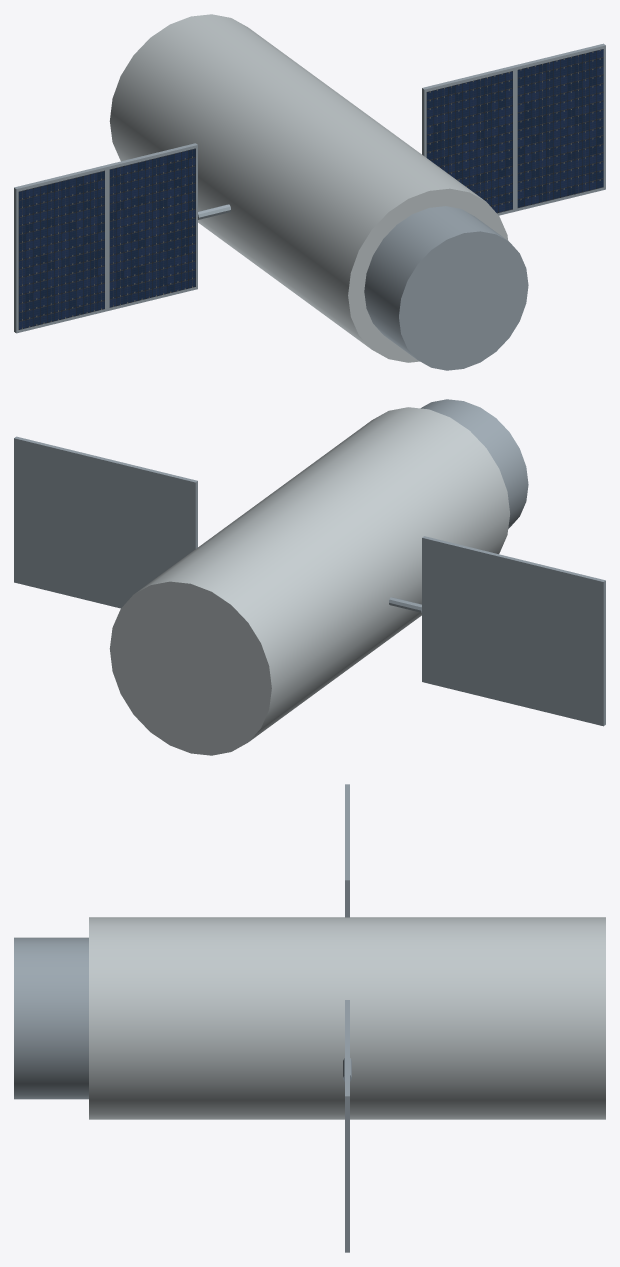
File: ref-mv-371.glb
The picture shows the model from 3 angles, top to bottom: view 1: azimuth 30°, elevation 25°; view 2: azimuth 150°, elevation 25°; view 3: azimuth 270°, elevation 25°; orthographic projection. The views are drawn at different scales.
Visible parts, largest first — view 1: Spacecraft body, Photovoltaic laminates (×4), Cylindrical section, Array frame (×4); view 2: Spacecraft body, Array frame (×4), Cylindrical section; view 3: Spacecraft body, Cylindrical section, Array frame.
Part boxes in pixels (x1=…): Spacecraft body: x1=109, y1=14, x2=508, y2=362; Photovoltaic laminates (×4): x1=18, y1=49, x2=603, y2=329; Cylindrical section: x1=364, y1=206, x2=528, y2=370; Array frame (×4): x1=14, y1=43, x2=605, y2=333; Spacecraft body: x1=109, y1=407, x2=509, y2=755; Array frame (×4): x1=14, y1=436, x2=605, y2=726; Cylindrical section: x1=421, y1=399, x2=528, y2=528; Spacecraft body: x1=89, y1=917, x2=605, y2=1119; Cylindrical section: x1=14, y1=937, x2=88, y2=1099; Array frame: x1=345, y1=1048, x2=349, y2=1252.
Size of the model in its own units: 4 by 1.1 by 3.21.
Materials: 3 (1 with a texture image).
